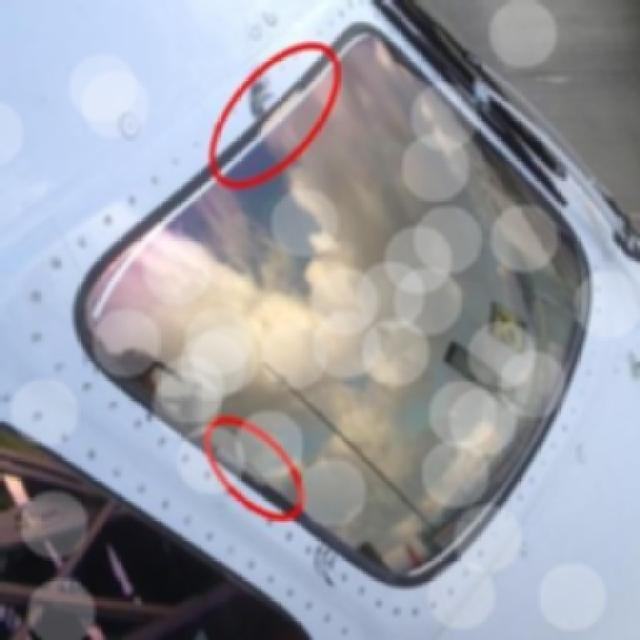crack: (315, 546, 337, 589)
